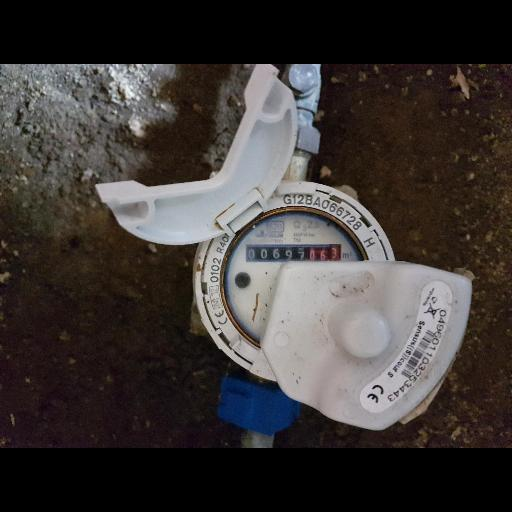0: (308, 246, 318, 262), (247, 247, 258, 261), (259, 247, 270, 261)
3: (329, 244, 341, 261)
6: (270, 247, 282, 261), (318, 247, 328, 262)
7: (296, 246, 308, 262)
9: (282, 246, 294, 262)
border_water_meter_number: (245, 242, 343, 264)
